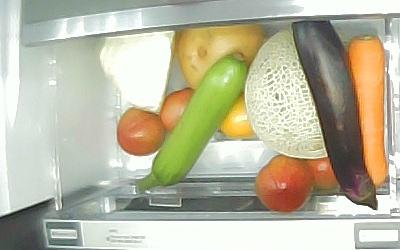cabbage: (98, 30, 173, 110)
carrot: (347, 35, 390, 187)
eggplant: (292, 19, 377, 212)
melon: (246, 29, 328, 159)
pear: (178, 25, 268, 92)
prune: (253, 155, 314, 213), (117, 106, 164, 156), (161, 86, 197, 132)
tangerine: (219, 94, 257, 140)
tomato: (302, 156, 339, 190)
zucchini: (137, 53, 246, 192)
